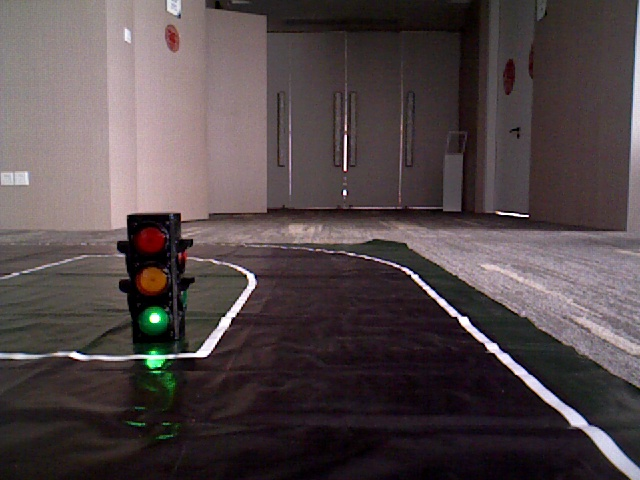green: (126, 219, 176, 340)
